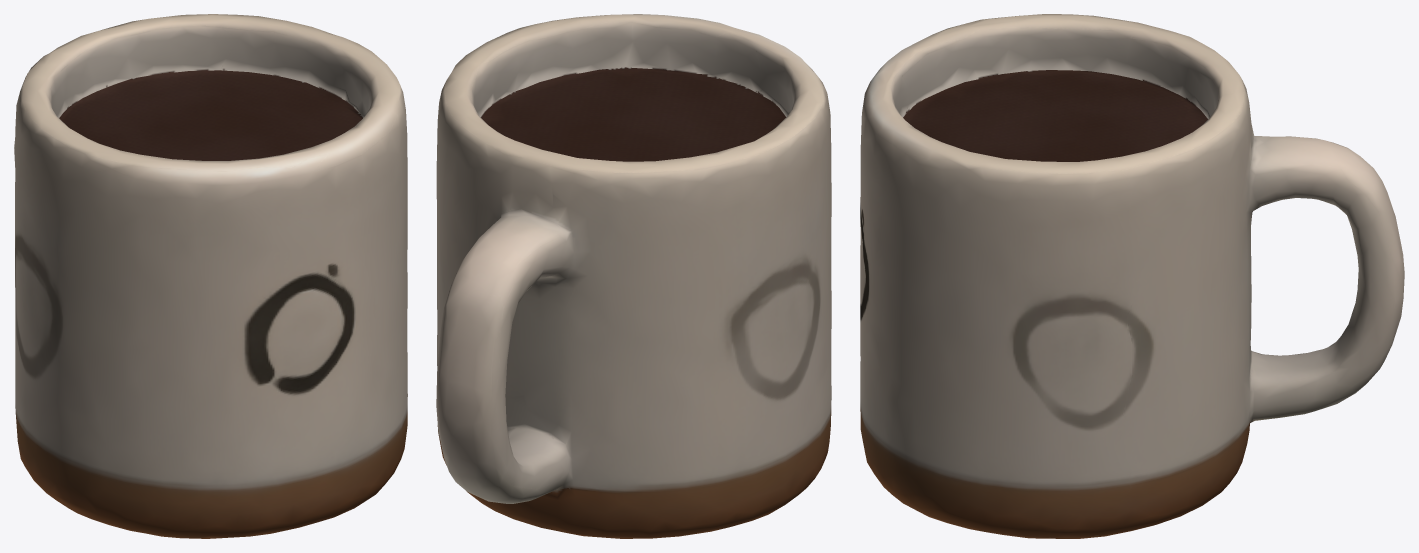
The model's file is special_CoffeeMug.glb.
3 renders of one model, left to right at view 1: azimuth 30°, elevation 25°; view 2: azimuth 150°, elevation 25°; view 3: azimuth 270°, elevation 25°, orthographic.
Parts seen in each view (by area): view 1: world; view 2: world; view 3: world.
Part boxes in pixels (<box>): world: <box>14,14,407,538</box>; world: <box>436,14,831,538</box>; world: <box>860,14,1404,538</box>.
Size of the model in its own units: 0.723 by 0.7631 by 1.
1 material, 1 textured.
